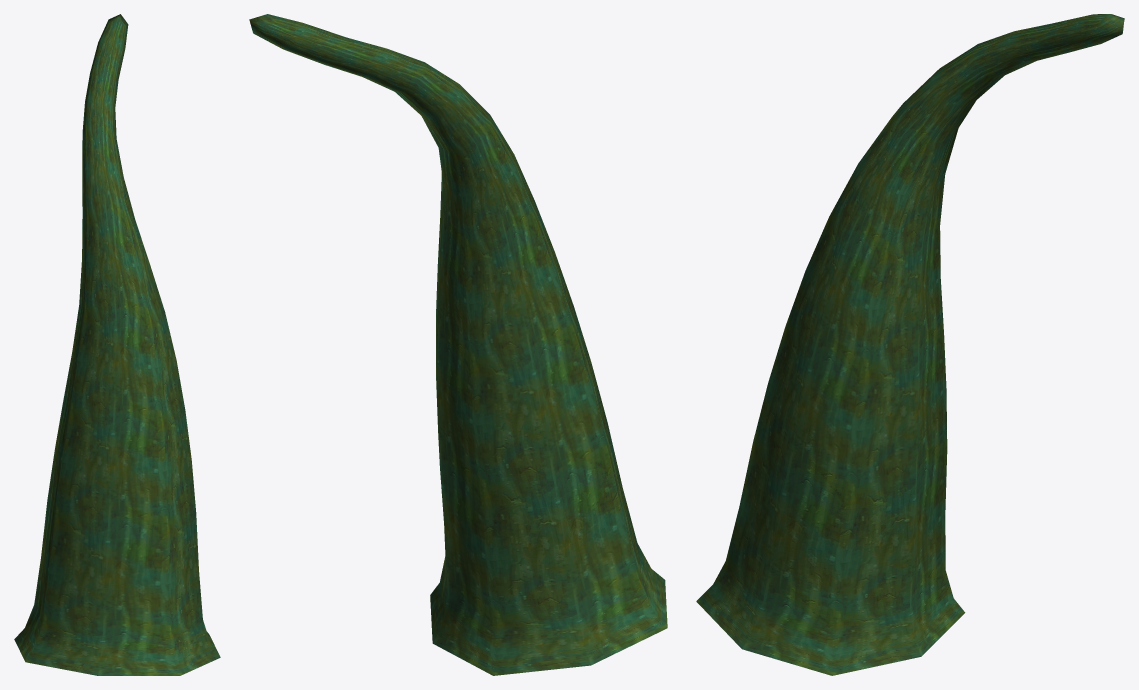
File: MIRKWOOD_MIRK_PLAYSURFACE213.fbx
3 renders of one model, left to right at view 1: azimuth 30°, elevation 25°; view 2: azimuth 150°, elevation 25°; view 3: azimuth 270°, elevation 25°, orthographic. The views are drawn at different scales.
Visible parts, largest first — view 1: MIRKWOOD_MIRK_PLAYSURFACE213; view 2: MIRKWOOD_MIRK_PLAYSURFACE213; view 3: MIRKWOOD_MIRK_PLAYSURFACE213.
Part boxes in pixels (x1=…): MIRKWOOD_MIRK_PLAYSURFACE213: x1=14, y1=14, x2=220, y2=675; MIRKWOOD_MIRK_PLAYSURFACE213: x1=249, y1=14, x2=667, y2=675; MIRKWOOD_MIRK_PLAYSURFACE213: x1=696, y1=14, x2=1124, y2=675.
Size of the model in its own units: 63696 by 153014 by 87863.
1 material, 1 textured.
